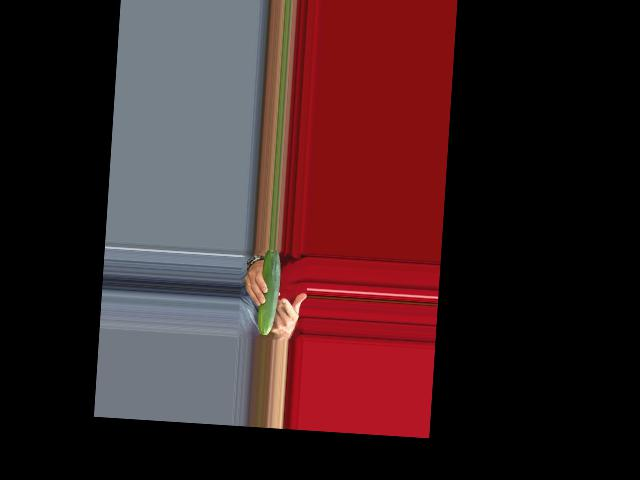cucumber: (256, 248, 282, 335)
